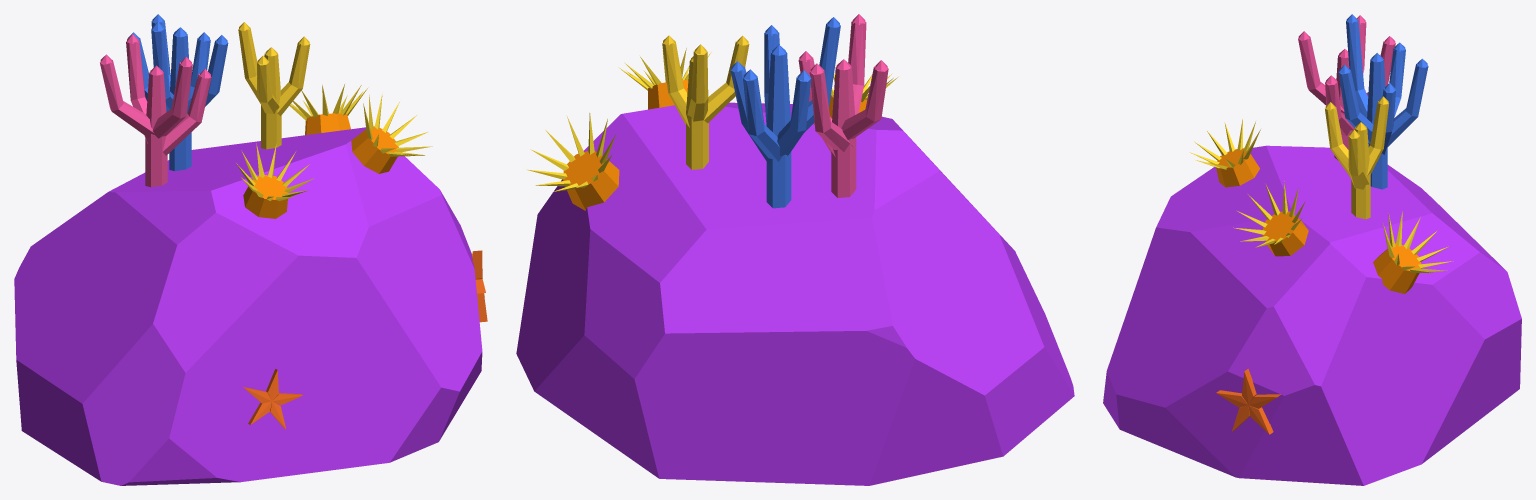
Rendered from ReefBoulder.fbx.
The picture shows the model from 3 angles, left to right: view 1: azimuth 30°, elevation 25°; view 2: azimuth 150°, elevation 25°; view 3: azimuth 270°, elevation 25°; orthographic projection. The views are drawn at different scales.
Visible parts, largest first — view 1: ReefBoulder, ReefBoulder_CoralPink, ReefBoulder_CoralBlue, ReefBoulder_CoralYellow, ReefBoulder_Anemone_Base, ReefBoulder_Anemone_Tentacles, ReefBoulder_Starfish2, ReefBoulder_Starfish; view 2: ReefBoulder, ReefBoulder_CoralBlue, ReefBoulder_CoralPink, ReefBoulder_CoralYellow, ReefBoulder_Anemone_Base, ReefBoulder_Anemone_Tentacles; view 3: ReefBoulder, ReefBoulder_CoralBlue, ReefBoulder_Anemone_Base, ReefBoulder_CoralYellow, ReefBoulder_Anemone_Tentacles, ReefBoulder_CoralPink, ReefBoulder_Starfish.
Boxes of the visible parts, <box> form: ReefBoulder: <box>14,127,482,485</box>; ReefBoulder_CoralPink: <box>100,34,211,187</box>; ReefBoulder_CoralBlue: <box>127,14,228,171</box>; ReefBoulder_CoralYellow: <box>238,22,310,149</box>; ReefBoulder_Anemone_Base: <box>243,113,398,218</box>; ReefBoulder_Anemone_Tentacles: <box>235,84,432,200</box>; ReefBoulder_Starfish2: <box>243,369,302,429</box>; ReefBoulder_Starfish: <box>472,250,487,322</box>; ReefBoulder: <box>516,102,1074,485</box>; ReefBoulder_CoralBlue: <box>730,17,840,208</box>; ReefBoulder_CoralPink: <box>798,14,888,197</box>; ReefBoulder_CoralYellow: <box>662,35,749,169</box>; ReefBoulder_Anemone_Base: <box>563,80,867,210</box>; ReefBoulder_Anemone_Tentacles: <box>527,48,897,191</box>; ReefBoulder: <box>1103,145,1521,485</box>; ReefBoulder_CoralBlue: <box>1338,14,1428,189</box>; ReefBoulder_Anemone_Base: <box>1216,148,1421,293</box>; ReefBoulder_CoralYellow: <box>1325,96,1388,219</box>; ReefBoulder_Anemone_Tentacles: <box>1189,119,1453,272</box>; ReefBoulder_CoralPink: <box>1298,15,1395,160</box>; ReefBoulder_Starfish: <box>1216,368,1280,434</box>.
Bounding box in the file's own units: 22.9 × 18.79 × 20.73.
